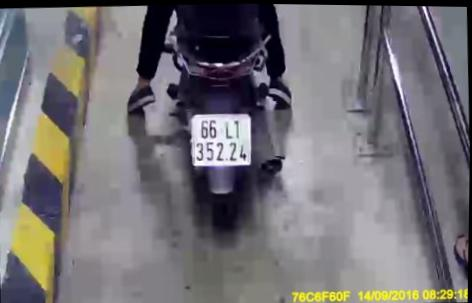LP: (190, 111, 254, 168)
